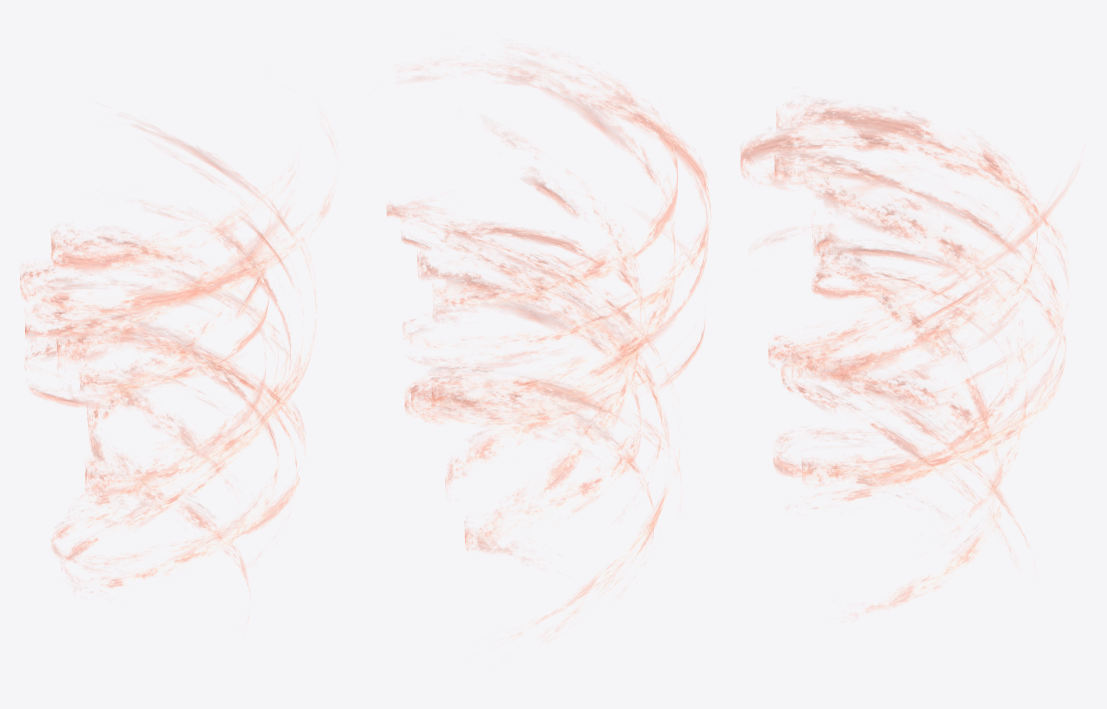
File: devil_wisps_1.glb
3 renders of one model, left to right at view 1: azimuth 30°, elevation 25°; view 2: azimuth 150°, elevation 25°; view 3: azimuth 270°, elevation 25°, orthographic. The views are drawn at different scales.
Parts seen in each view (by area): view 1: devil_wisps_1; view 2: devil_wisps_1; view 3: devil_wisps_1.
Boxes of the visible parts, bbox=[...] form: devil_wisps_1: bbox=[20, 125, 333, 619]; devil_wisps_1: bbox=[386, 52, 711, 637]; devil_wisps_1: bbox=[740, 100, 1080, 615].
Size of the model in its own units: 9.31 by 18.95 by 9.45.
1 material, 1 textured.
